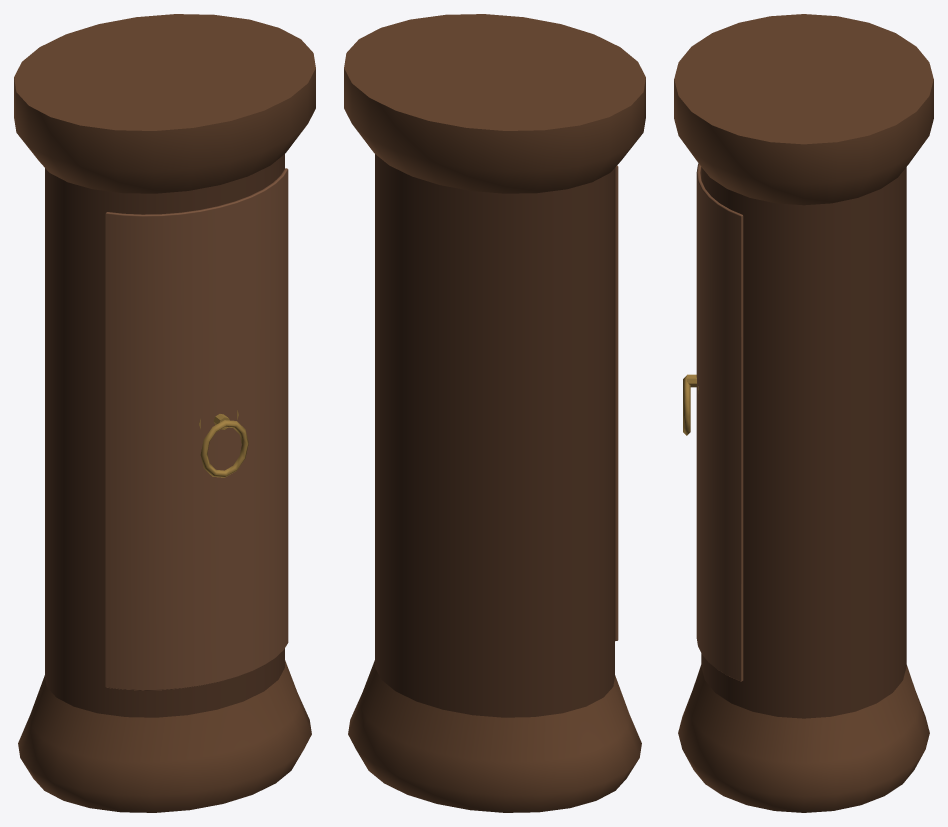
File: rpg-mansion-oval-pedestal-cabinet-01.glb
3 renders of one model, left to right at view 1: azimuth 30°, elevation 25°; view 2: azimuth 150°, elevation 25°; view 3: azimuth 270°, elevation 25°, orthographic.
Parts seen in each view (by area): view 1: rpg-mansion-oval-pedestal-cabinet-01; view 2: rpg-mansion-oval-pedestal-cabinet-01; view 3: rpg-mansion-oval-pedestal-cabinet-01.
Part boxes in pixels (x1,y1,x2,y2): rpg-mansion-oval-pedestal-cabinet-01: (14,14,315,812); rpg-mansion-oval-pedestal-cabinet-01: (344,14,645,812); rpg-mansion-oval-pedestal-cabinet-01: (674,14,933,812).
Bounding box in the file's own units: 0.316 × 0.764 × 0.266.
